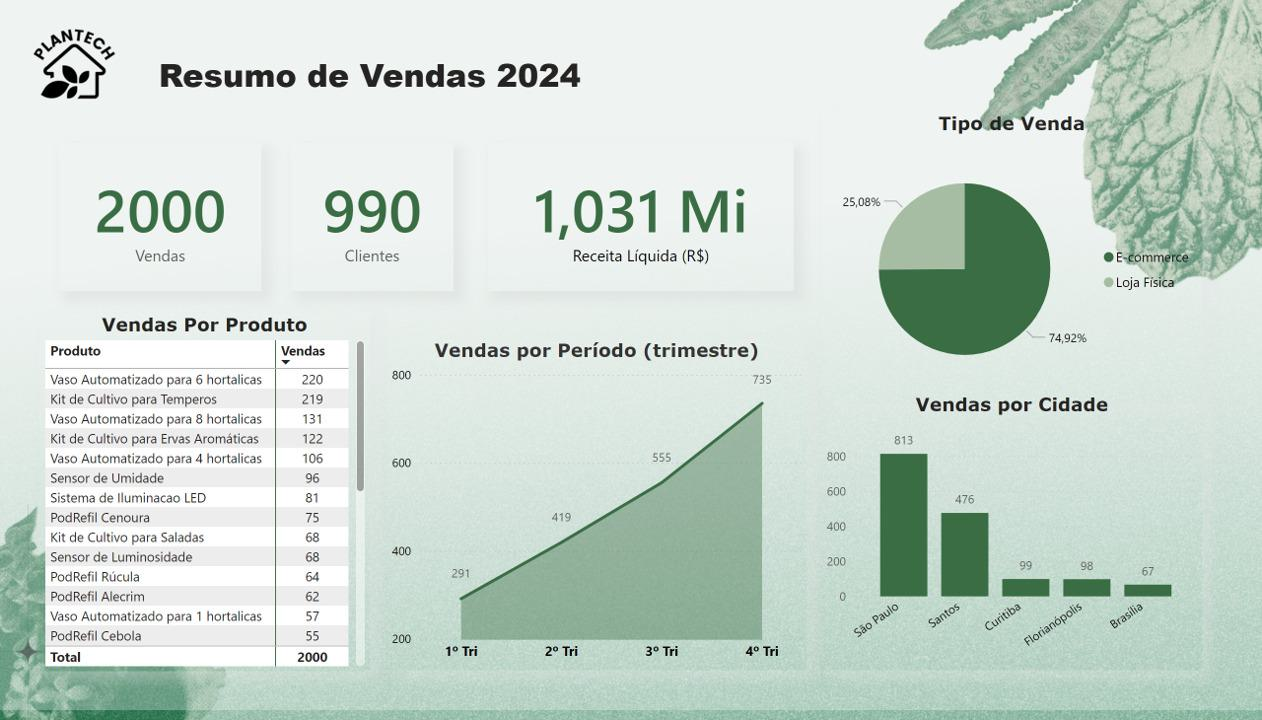

The page's visual inventory and layout, read from the dashboard file:
{"tool":"powerbi","page":{"name":"Resumo de Vendas 2024","canvas":[1280,720],"ordinal":1},"visuals":[{"type":"lineChart","title":"Vendas por Período (trimestre)","fields":{"Y":["Clientes.Vendas Por Trimestre"],"Category":["TabelaData.TrimestreFormatado"]},"box":[391.7,343.3,426.7,336.7],"z":0},{"type":"card","fields":{"Values":["CountNonNull(Clientes.Qtd de Venda)"]},"box":[60,145,205,150],"z":1000},{"type":"textbox","box":[145,48.3,460,83.3],"z":2000},{"type":"image","box":[0,0,145,131.5],"z":3000},{"type":"card","fields":{"Values":["Sum(Clientes.Valor Líquido)"]},"box":[495,145,310,150],"z":4000},{"type":"tableEx","title":"Vendas Por Produto","fields":{"Values":["Clientes.Produto","Clientes.Qtd de Compras"]},"box":[40,316.7,335,363.3],"z":5000},{"type":"card","fields":{"Values":["Count(Clientes.Nome Cliente)"]},"box":[295,145,165,150],"z":6000},{"type":"pieChart","title":"Tipo de Venda","fields":{"Category":["Clientes.Tipo de Venda"],"Y":["Sum(Clientes.Qtd de Venda)"]},"box":[833.3,113.3,386.7,296.7],"z":7000},{"type":"columnChart","title":"Vendas por Cidade","fields":{"Category":["Clientes.Cidade"],"Y":["CountNonNull(Clientes.Qtd de Venda)"]},"box":[833.3,398.3,386.7,281.7],"z":8000}]}

Visuals, with their boxes in screenshot pixels (x1, y1, x2, y2), scaled from the page's 1280x720 canvas onto the 1262x720 screenshot:
"Vendas por Período (trimestre)" lineChart: l=386, t=343, r=807, b=680
card - CountNonNull(Clientes.Qtd de Venda): l=59, t=145, r=261, b=295
textbox: l=143, t=48, r=596, b=132
image: l=0, t=0, r=143, b=132
card - Sum(Clientes.Valor Líquido): l=488, t=145, r=794, b=295
"Vendas Por Produto" tableEx: l=39, t=317, r=370, b=680
card - Count(Clientes.Nome Cliente): l=291, t=145, r=454, b=295
"Tipo de Venda" pieChart: l=822, t=113, r=1203, b=410
"Vendas por Cidade" columnChart: l=822, t=398, r=1203, b=680
